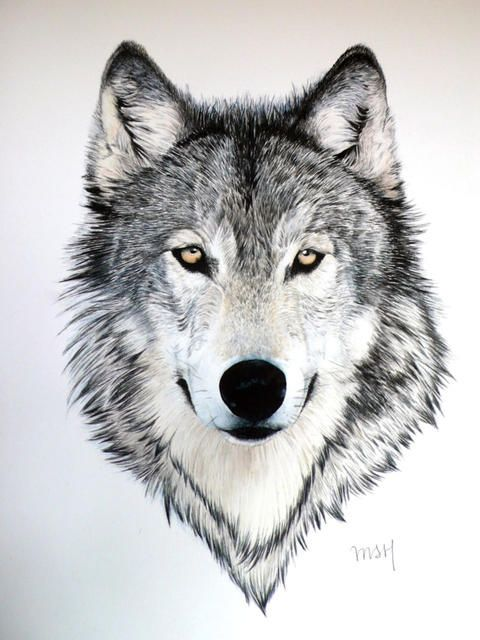Lobo: (60, 36, 442, 599)
